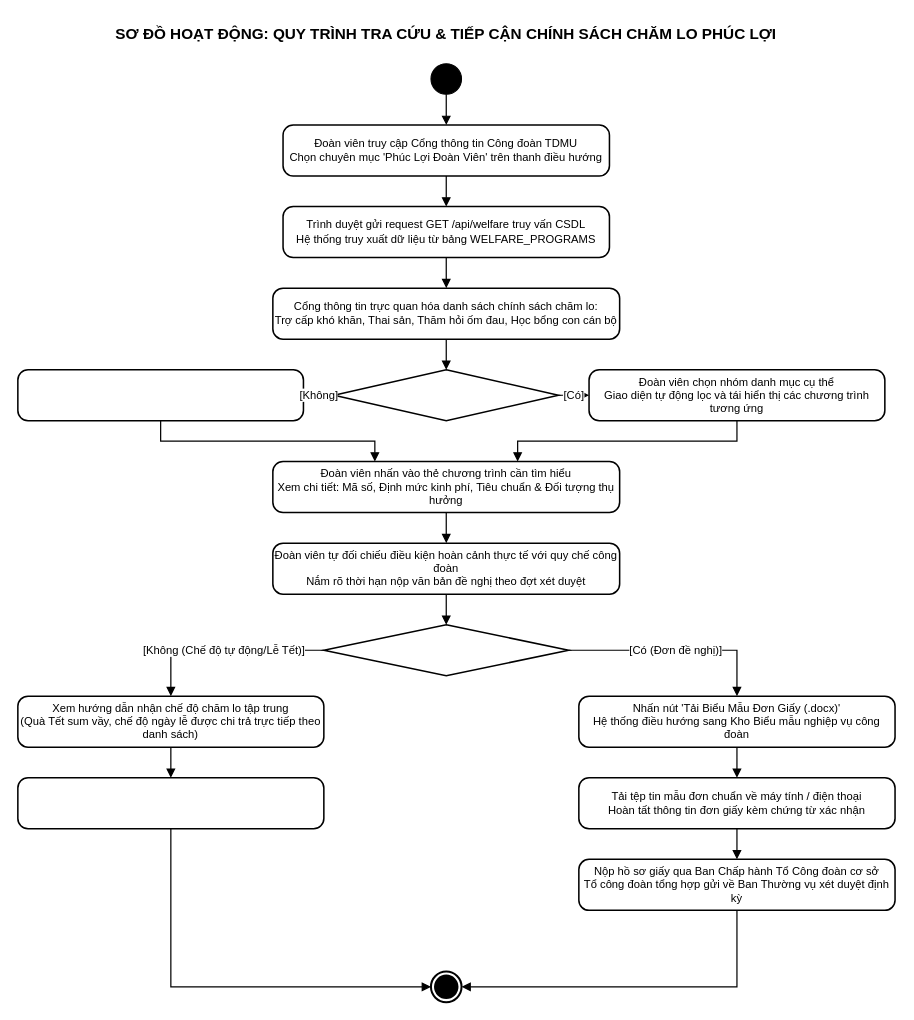
This 914x1020 diagram has some shape labels left out. The shapes that lost their labels are listed below. From the top down, each one's centre as x and y in pixels, then its label:
At (160,395): "Duyệt danh mục tổng thể các chính sách hiện hành của Trường".
At (446,395): "Lọc theo nhóm đối tượng / chế độ?".
At (446,650): "Chương trình yêu cầu lập hồ sơ đề nghị?".
At (170,803): "Theo dõi thông báo thời gian và địa điểm nhận chăm lo trên Cổng thông tin".
